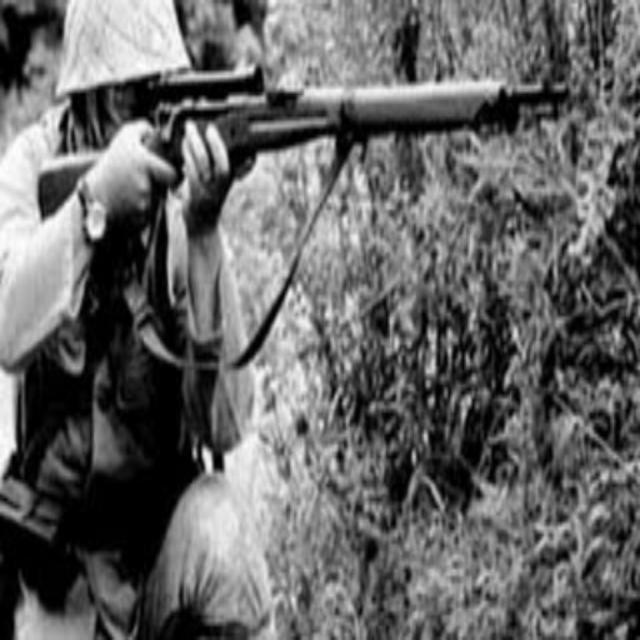other: (0, 0, 258, 640)
